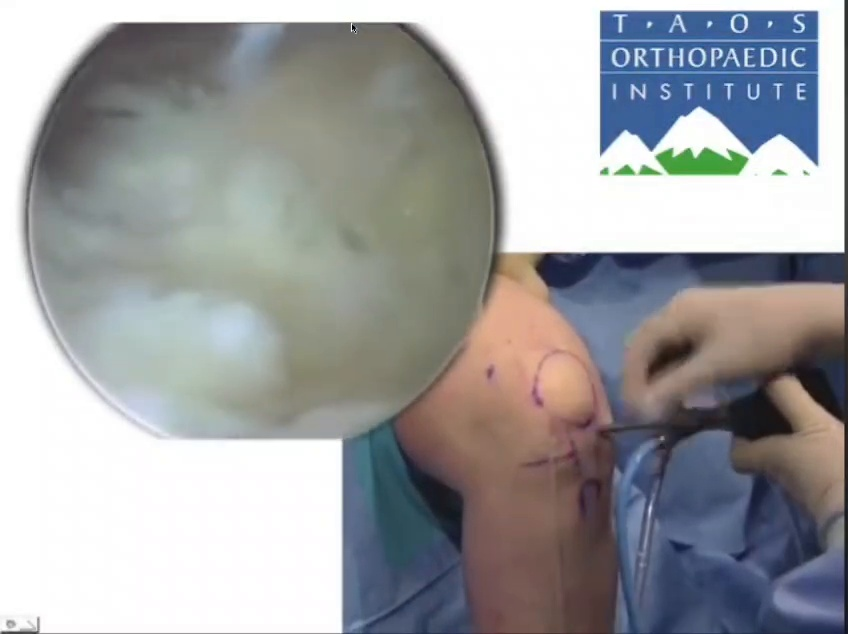arthroscope: (764, 368, 848, 632)
probe: (605, 428, 674, 609), (435, 265, 507, 392)
